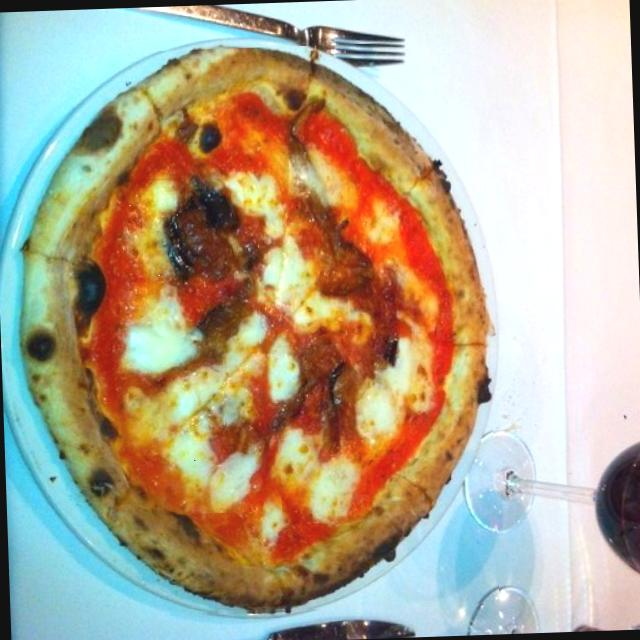cheese: (342, 327, 438, 459), (117, 360, 226, 456), (109, 289, 209, 381), (254, 238, 348, 335), (158, 432, 264, 514), (279, 436, 372, 524), (125, 177, 188, 280), (278, 144, 360, 222), (258, 323, 304, 402)
pizza: (22, 47, 489, 609)
